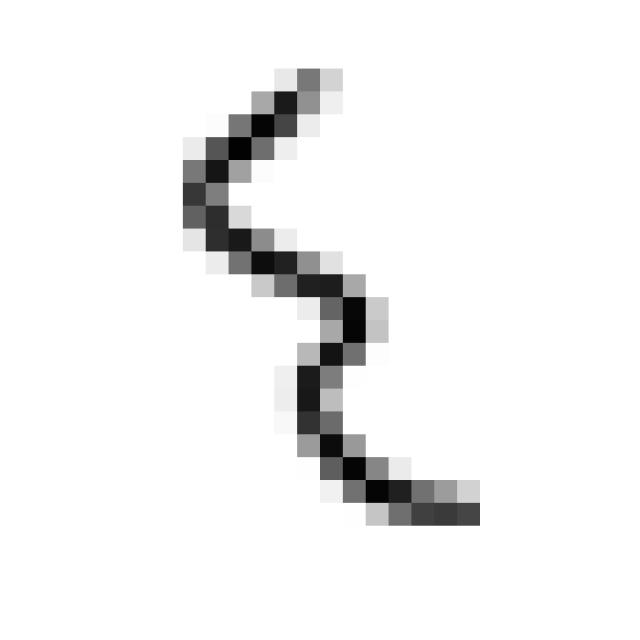4 -four-: (165, 48, 503, 544)
